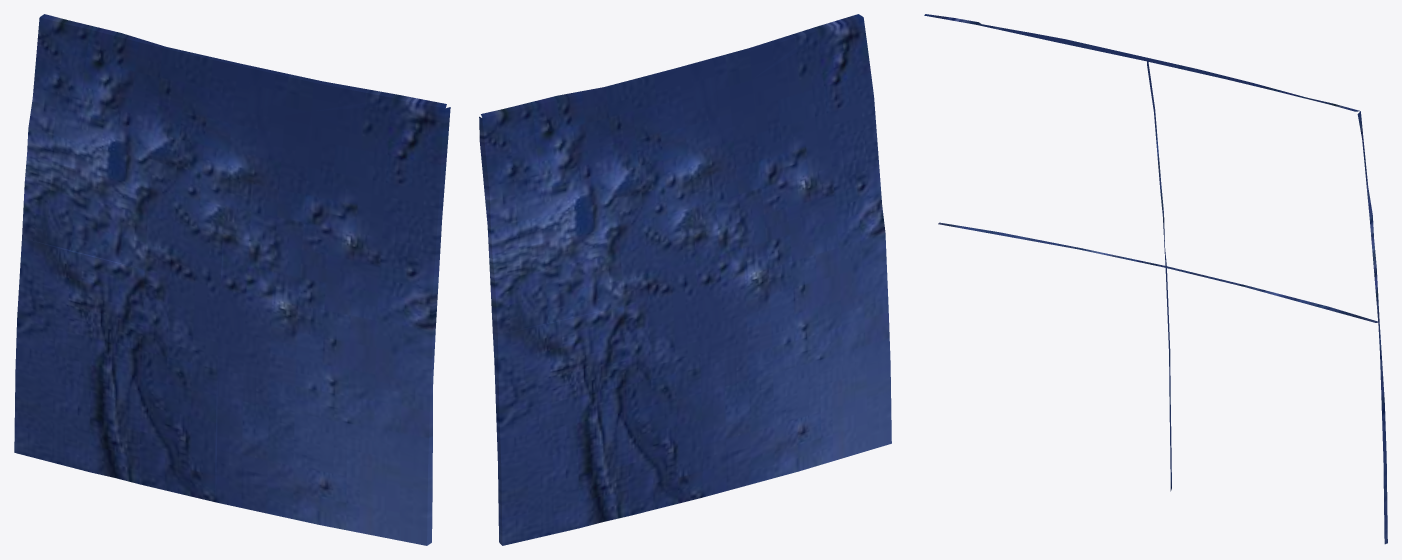
The picture shows the model from 3 angles, left to right: view 1: azimuth 90°, elevation 25°; view 2: azimuth 150°, elevation 25°; view 3: azimuth 270°, elevation 25°; orthographic projection. The views are drawn at different scales.
Size of the model in its own units: 709515 by 1252261 by 1170931.
1 material, 1 textured.
